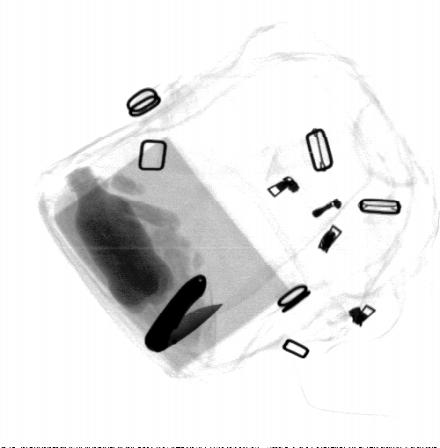Knife: (142, 272, 227, 354)
